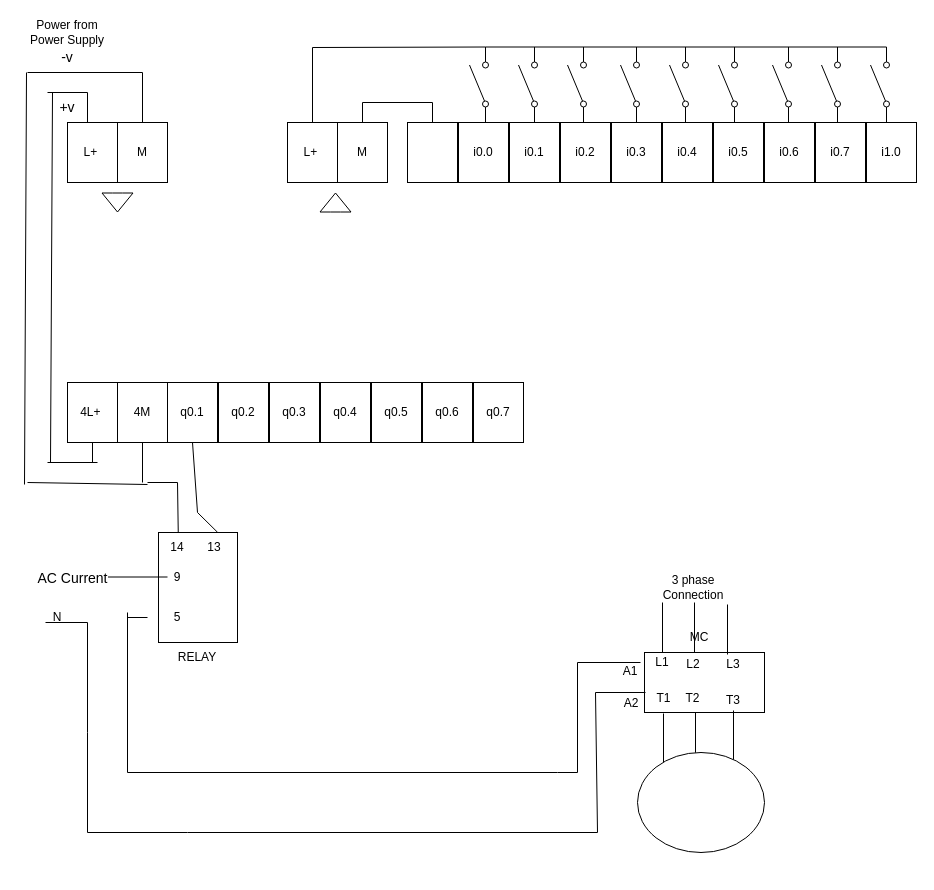
The diagram is 934 pixels wide and 890 high, and some of its shapes have lost their labels. Each missing label, with the box of its shape:
1M: (406, 122, 458, 182)
Motor: (636, 752, 764, 852)
